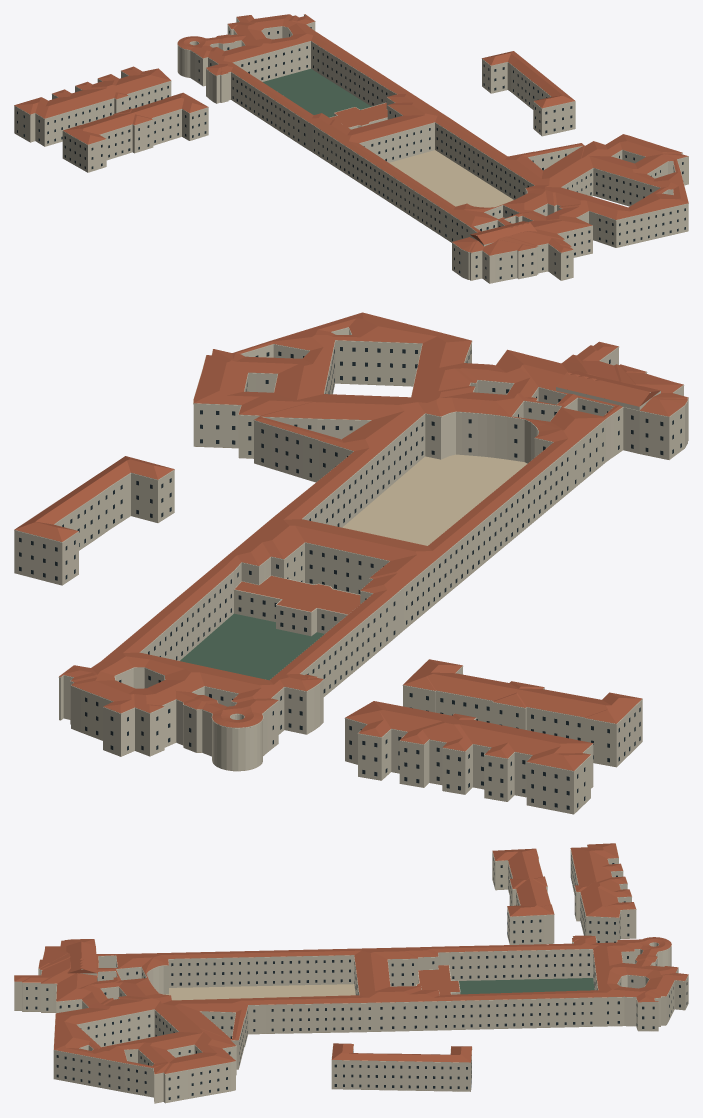
Rendered from vatican-museums.glb.
3 renders of one model, top to bottom at view 1: azimuth 30°, elevation 25°; view 2: azimuth 150°, elevation 25°; view 3: azimuth 270°, elevation 25°, orthographic. The views are drawn at different scales.
Visible parts, largest first — view 1: primary-envelope, primary-roof, courtyard-ground (×2), window-rhythm, cornice, mapped-roof, sistine-roof, retained-campus-ground; view 2: primary-envelope, primary-roof, courtyard-ground (×2), window-rhythm, cornice, mapped-roof, mapped-part, sistine-roof, retained-campus-ground; view 3: primary-envelope, primary-roof, window-rhythm, courtyard-ground (×2), cornice, mapped-roof, sistine-roof, retained-campus-ground.
Part boxes in pixels (x1=…): primary-envelope: x1=14, y1=15, x2=688, y2=283; primary-roof: x1=14, y1=14, x2=688, y2=255; courtyard-ground (×2): x1=263, y1=69, x2=513, y2=207; window-rhythm: x1=17, y1=27, x2=685, y2=279; cornice: x1=14, y1=15, x2=688, y2=256; mapped-roof: x1=330, y1=103, x2=504, y2=219; sistine-roof: x1=470, y1=221, x2=536, y2=244; retained-campus-ground: x1=17, y1=75, x2=688, y2=283; primary-envelope: x1=14, y1=327, x2=688, y2=813; primary-roof: x1=14, y1=312, x2=688, y2=770; courtyard-ground (×2): x1=180, y1=454, x2=527, y2=680; window-rhythm: x1=19, y1=347, x2=681, y2=809; cornice: x1=14, y1=327, x2=688, y2=771; mapped-roof: x1=234, y1=576, x2=360, y2=614; mapped-part: x1=234, y1=590, x2=346, y2=636; sistine-roof: x1=556, y1=371, x2=660, y2=406; retained-campus-ground: x1=14, y1=383, x2=687, y2=814; primary-envelope: x1=14, y1=850, x2=688, y2=1103; primary-roof: x1=14, y1=843, x2=688, y2=1074; window-rhythm: x1=26, y1=855, x2=687, y2=1099; courtyard-ground (×2): x1=163, y1=978, x2=594, y2=1000; cornice: x1=14, y1=843, x2=688, y2=1074; mapped-roof: x1=417, y1=965, x2=459, y2=995; sistine-roof: x1=66, y1=941, x2=96, y2=973; retained-campus-ground: x1=14, y1=889, x2=684, y2=1103.
Bounding box in the file's own units: 12.98 × 0.95 × 16.
